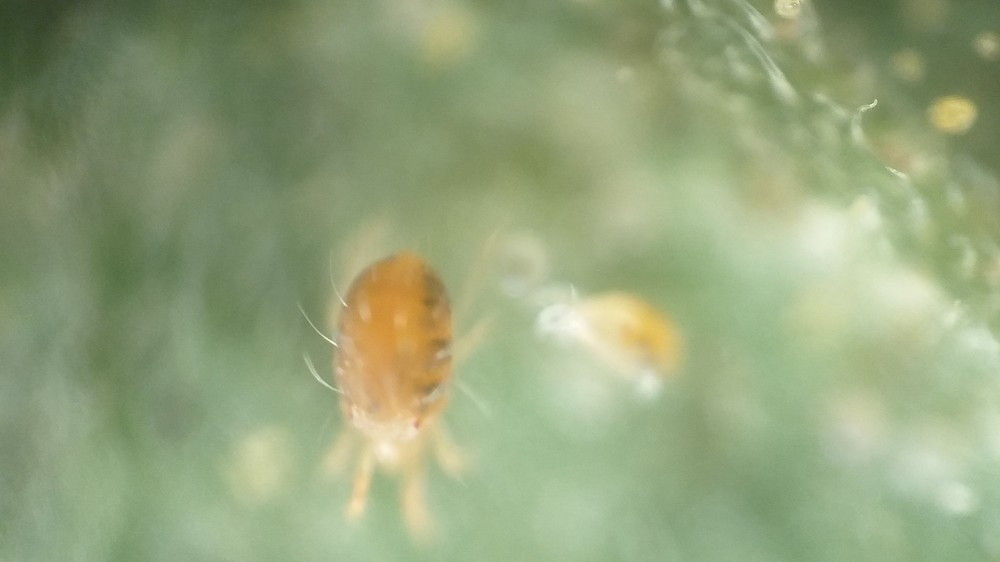Aracnido Rojo: (258, 242, 538, 522)
